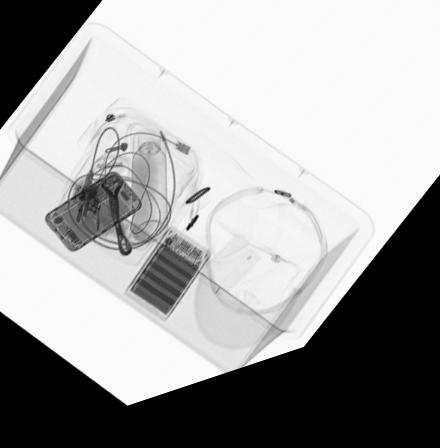Powerbank: (125, 238, 211, 333)
